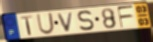8: (101, 8, 118, 30)
F: (116, 4, 135, 29)
S: (77, 9, 96, 32)
T: (20, 15, 34, 36)
U: (36, 12, 56, 36)
V: (57, 11, 75, 33)
